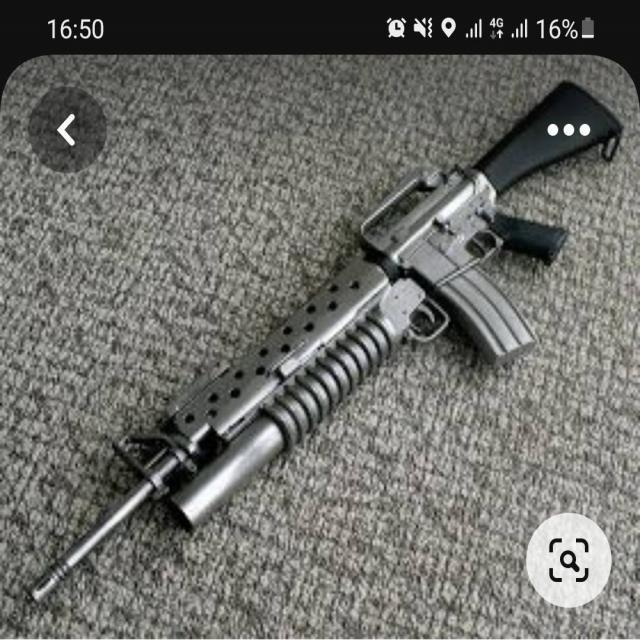m16: (14, 178, 608, 625)
